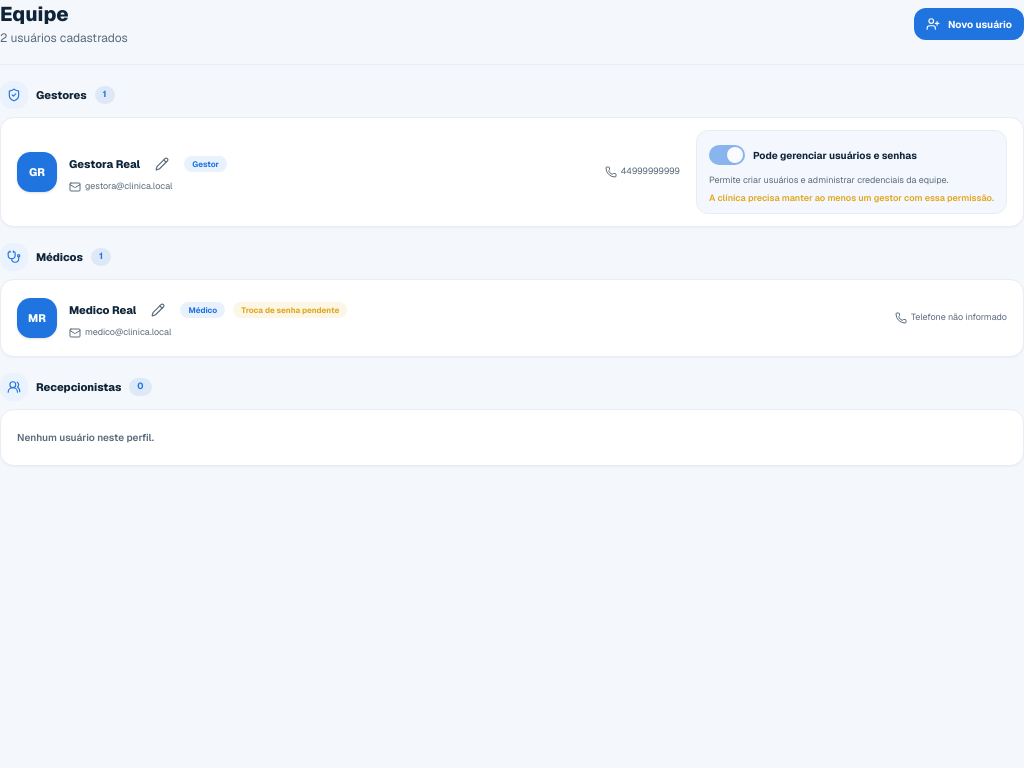
it: EquipeClient › should_keep_current_name_and_dialog_when_backend_rejects_update
Click the button named "Alterar nome de Medico Real" at (158, 310), box [144,296,172,324]
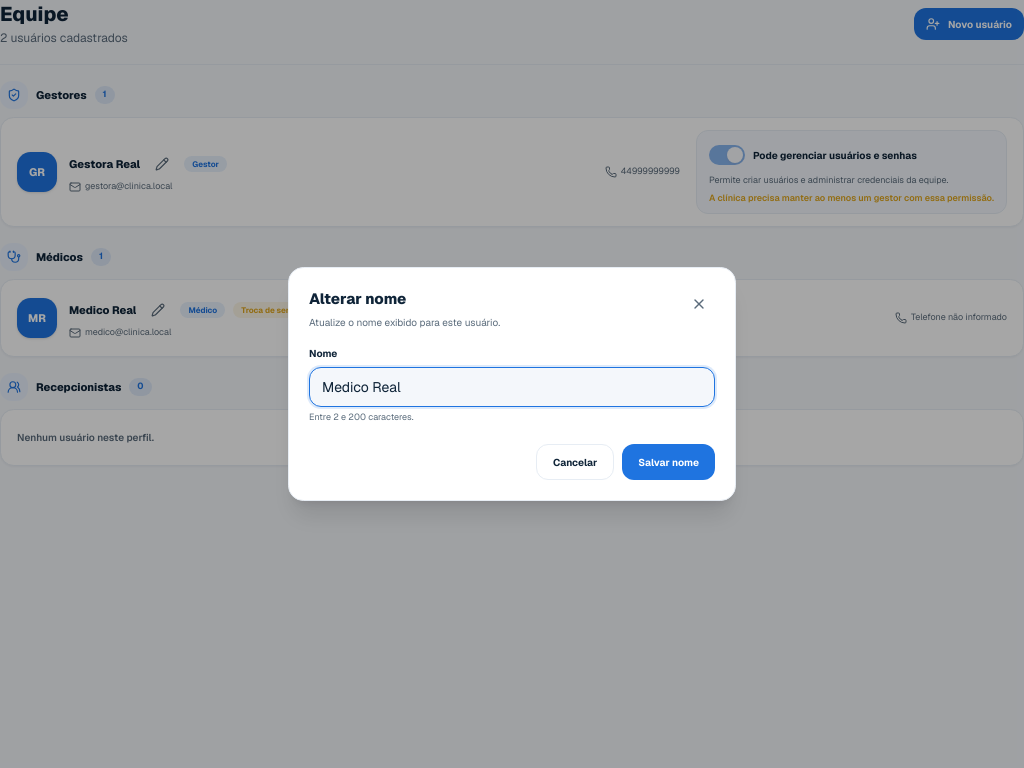
Replace the text in the field labelled "Nome" with "Nome Recusado" at (512, 386), box [309,366,715,406]
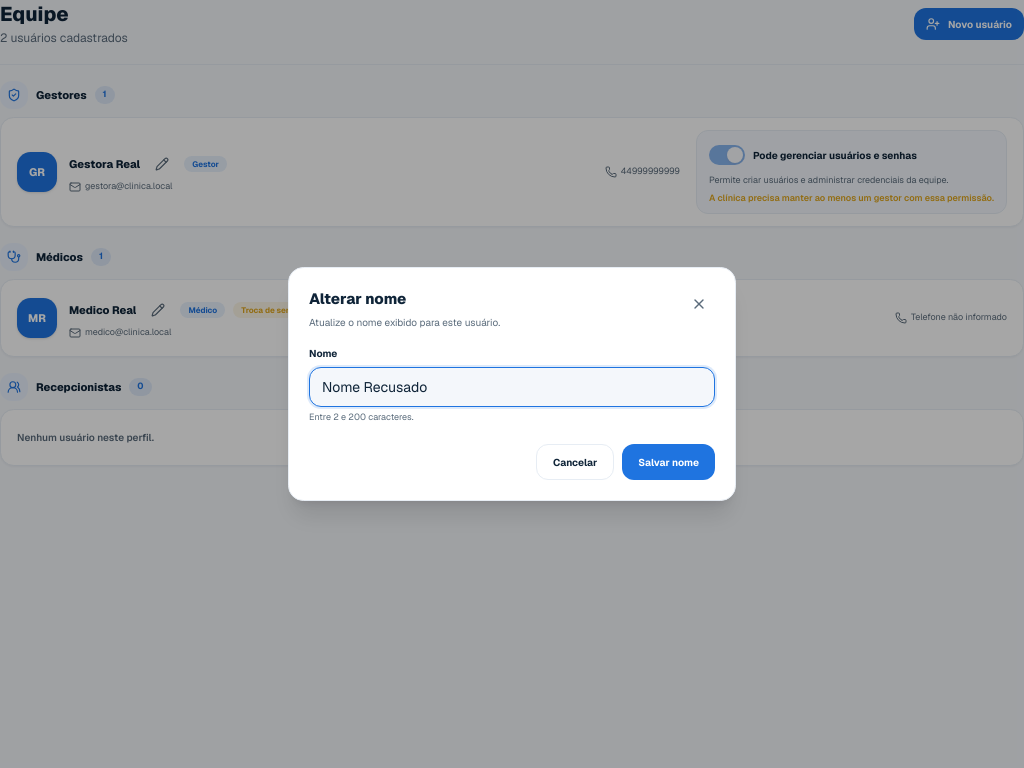
Click the button "Salvar nome" at (669, 462), box [622,444,715,480]
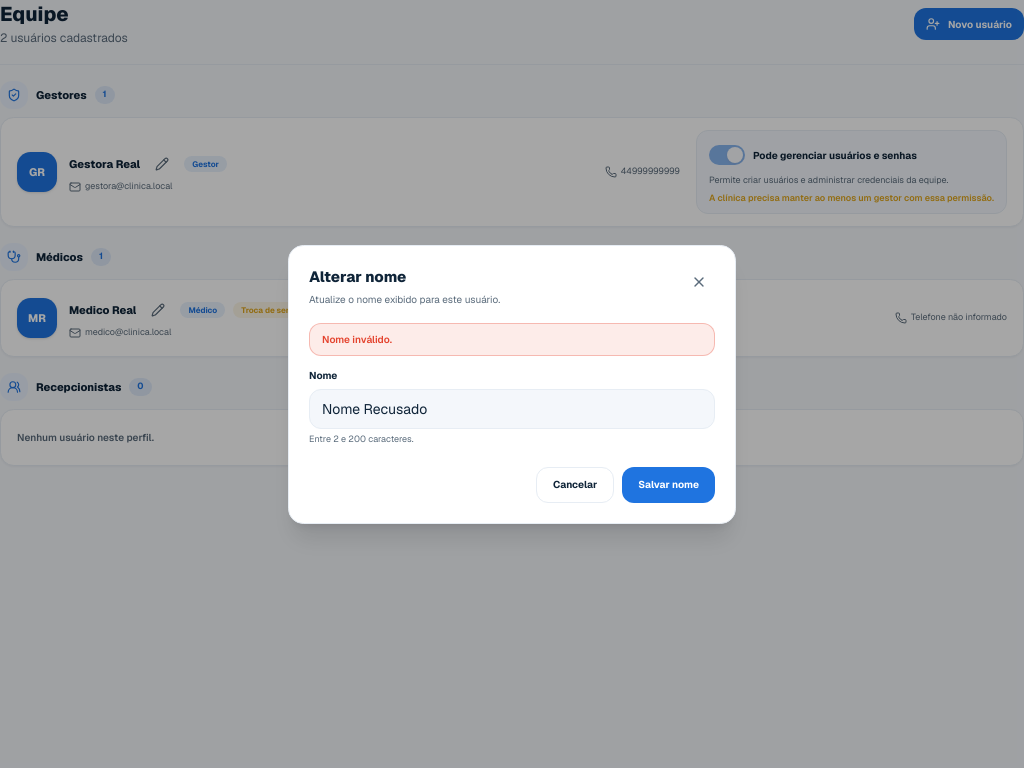
Check: the heading "Medico Real" is shown, box [69,302,136,319]
Check: the dialog "Alterar nome" is shown, box [288,244,736,524]
Check: the message reads "Nome inválido.", box [322,333,392,346]
